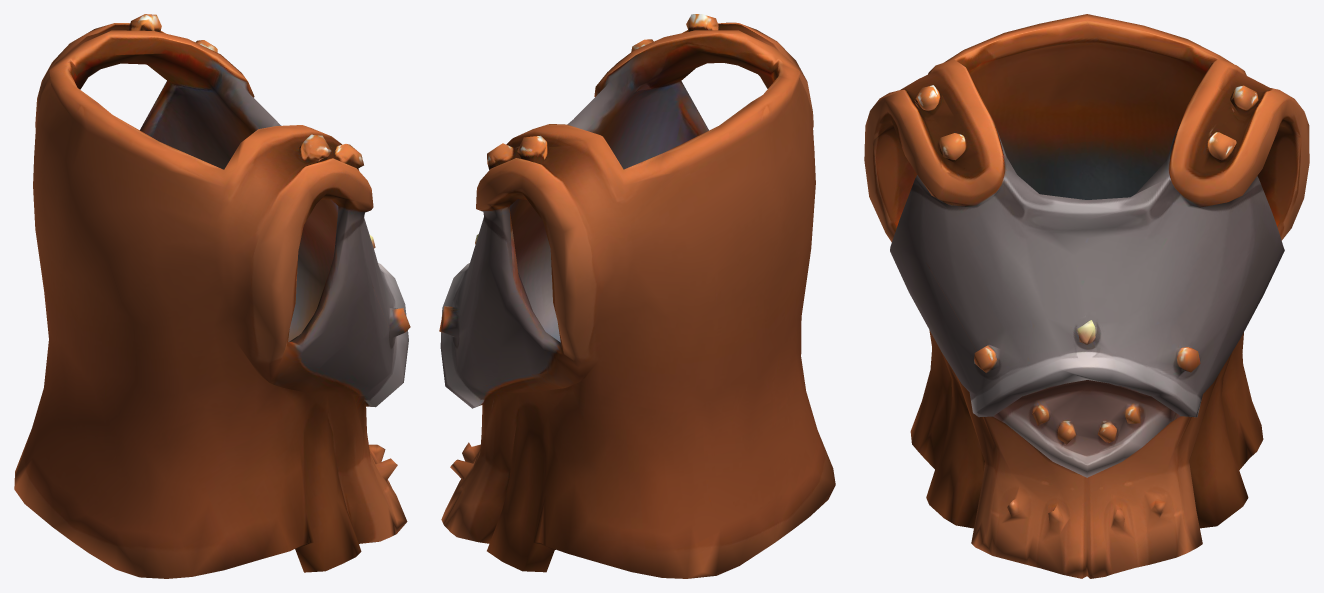
The model's file is Armor_Iron.fbx.
The picture shows the model from 3 angles, left to right: view 1: azimuth 30°, elevation 25°; view 2: azimuth 150°, elevation 25°; view 3: azimuth 270°, elevation 25°; orthographic projection. The views are drawn at different scales.
Parts seen in each view (by area): view 1: tripo_node_b8afbc50; view 2: tripo_node_b8afbc50; view 3: tripo_node_b8afbc50.
Boxes of the visible parts, x1,y1,x2,y2 form: tripo_node_b8afbc50: (14,14,410,578); tripo_node_b8afbc50: (439,14,835,578); tripo_node_b8afbc50: (864,14,1309,578).
Bounding box in the file's own units: 0.726 × 1 × 0.9368.
1 material, 1 textured.
